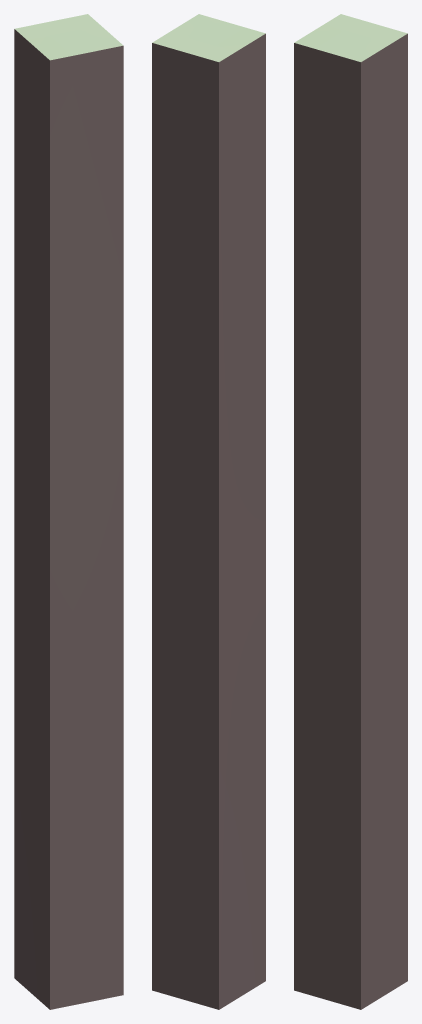
File: Blocks-149.fbx
The picture shows the model from 3 angles, left to right: view 1: azimuth 30°, elevation 25°; view 2: azimuth 150°, elevation 25°; view 3: azimuth 330°, elevation 25°; orthographic projection.
Visible parts, largest first — view 1: Blocks-149; view 2: Blocks-149; view 3: Blocks-149.
Part boxes in pixels (left/top/right/bottom): Blocks-149: left=14, top=14, right=123, bottom=1009; Blocks-149: left=152, top=14, right=265, bottom=1009; Blocks-149: left=294, top=14, right=407, bottom=1009.
Bounding box in the file's own units: 2680 × 31981 × 2720.
